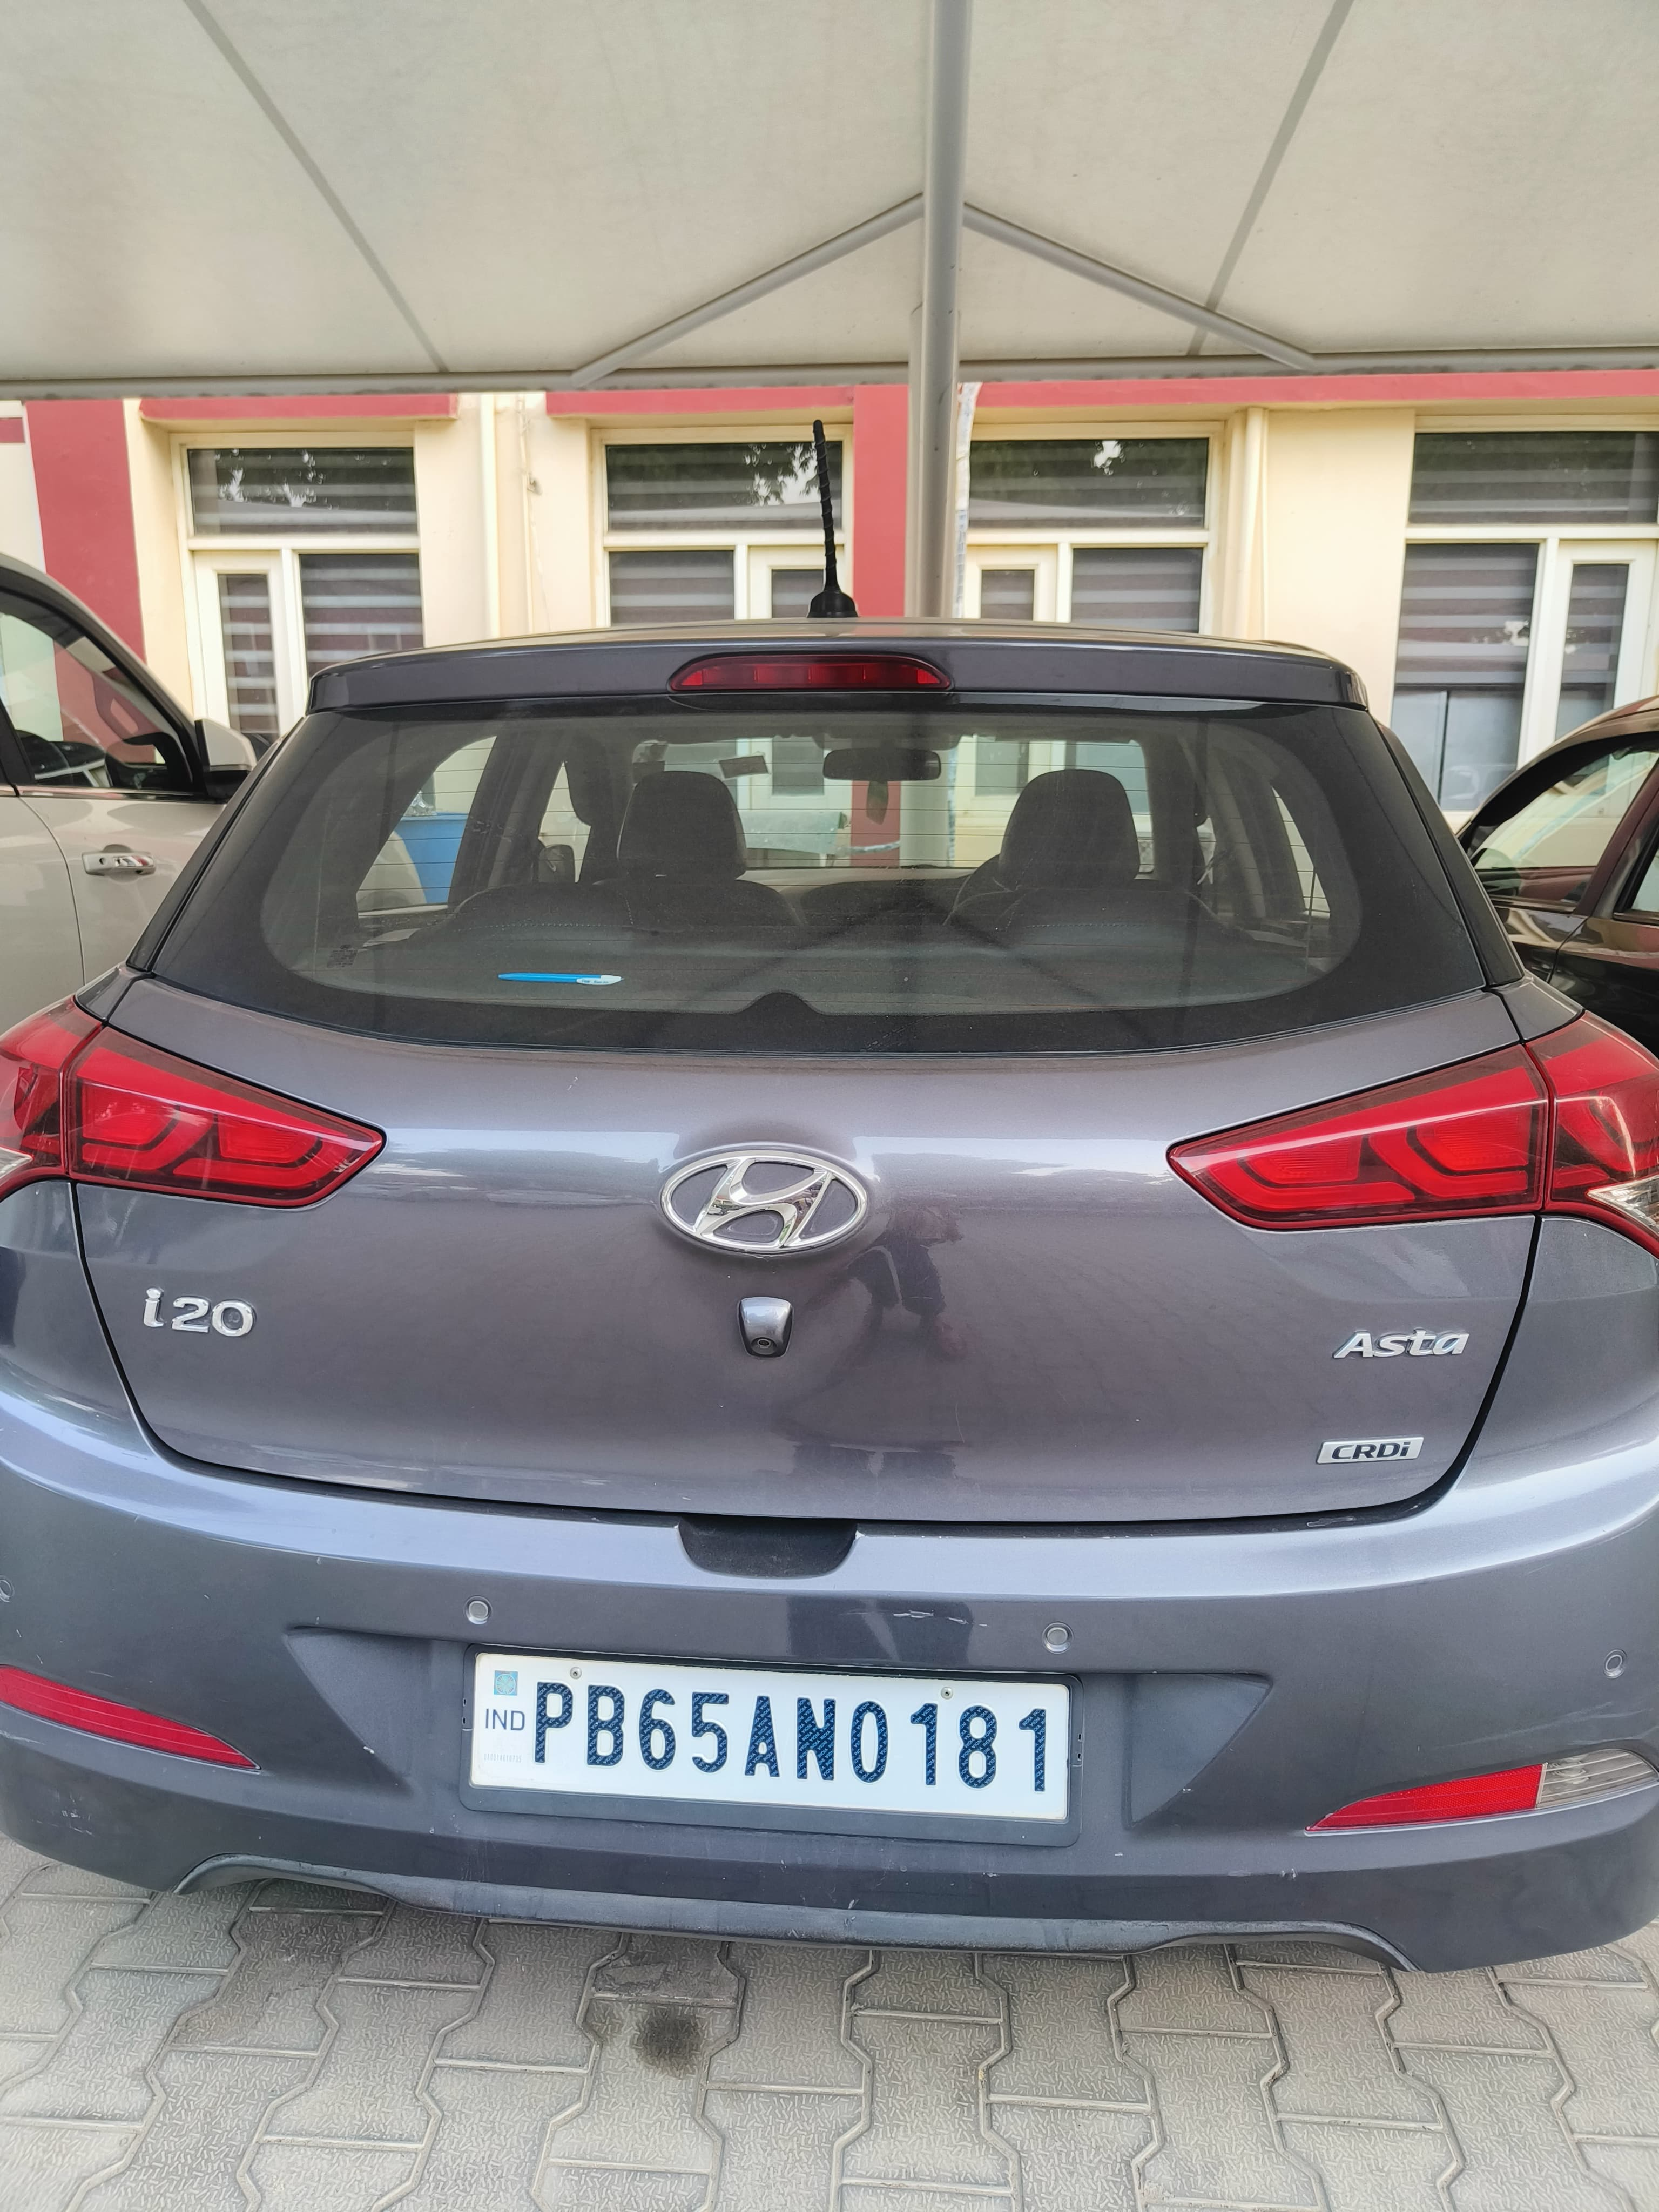license plate: (469, 1651, 1071, 1824)
